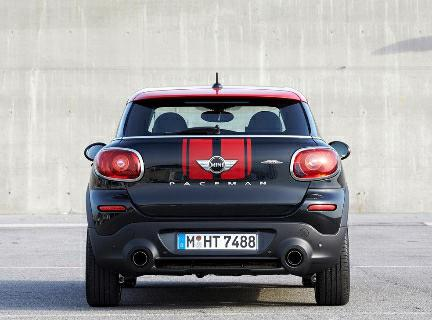MINI-JCWPACEMAN: (76, 86, 357, 302)
